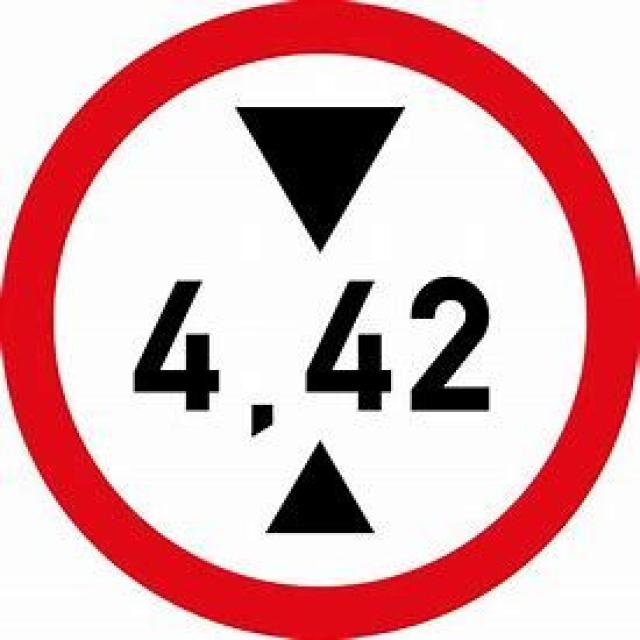height_limit: (5, 0, 638, 638)
